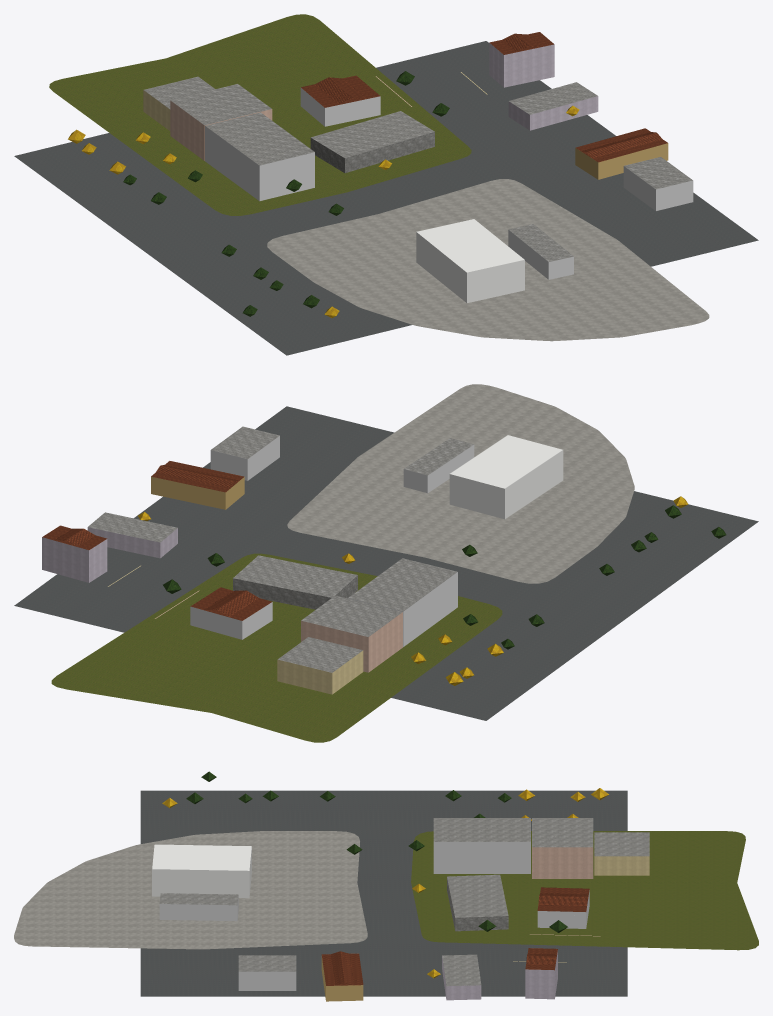
The model's file is cidade_S01_03_lod.gltf.
The picture shows the model from 3 angles, top to bottom: view 1: azimuth 30°, elevation 25°; view 2: azimuth 150°, elevation 25°; view 3: azimuth 270°, elevation 25°; orthographic projection. The views are drawn at different scales.
Parts seen in each view (by area): view 1: S01_03_Chao_LOD2, S01_03_Edificios_LOD1, S01_03_Silhueta_LOD2, S01_03_Vegetacao_LOD2; view 2: S01_03_Chao_LOD2, S01_03_Edificios_LOD1, S01_03_Silhueta_LOD2, S01_03_Vegetacao_LOD2; view 3: S01_03_Chao_LOD2, S01_03_Edificios_LOD1, S01_03_Silhueta_LOD2, S01_03_Vegetacao_LOD2.
Part boxes in pixels (left/top/right/bottom): S01_03_Chao_LOD2: left=14, top=14, right=758, bottom=355; S01_03_Edificios_LOD1: left=143, top=33, right=693, bottom=302; S01_03_Silhueta_LOD2: left=300, top=32, right=668, bottom=178; S01_03_Vegetacao_LOD2: left=68, top=71, right=579, bottom=317; S01_03_Chao_LOD2: left=14, top=384, right=758, bottom=742; S01_03_Edificios_LOD1: left=42, top=426, right=563, bottom=694; S01_03_Silhueta_LOD2: left=42, top=461, right=272, bottom=639; S01_03_Vegetacao_LOD2: left=138, top=496, right=726, bottom=685; S01_03_Chao_LOD2: left=14, top=790, right=758, bottom=996; S01_03_Edificios_LOD1: left=152, top=818, right=649, bottom=1001; S01_03_Silhueta_LOD2: left=321, top=887, right=589, bottom=1001; S01_03_Vegetacao_LOD2: left=162, top=771, right=608, bottom=978.
Size of the model in its own units: 104 by 7.94 by 153.
13 materials, 12 textured.
